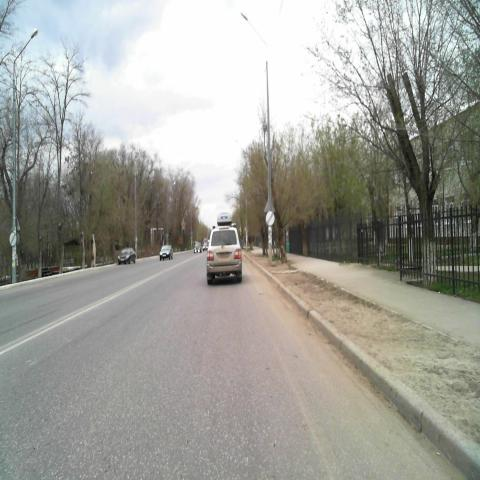3_31: (8, 230, 18, 248), (266, 209, 274, 227)
